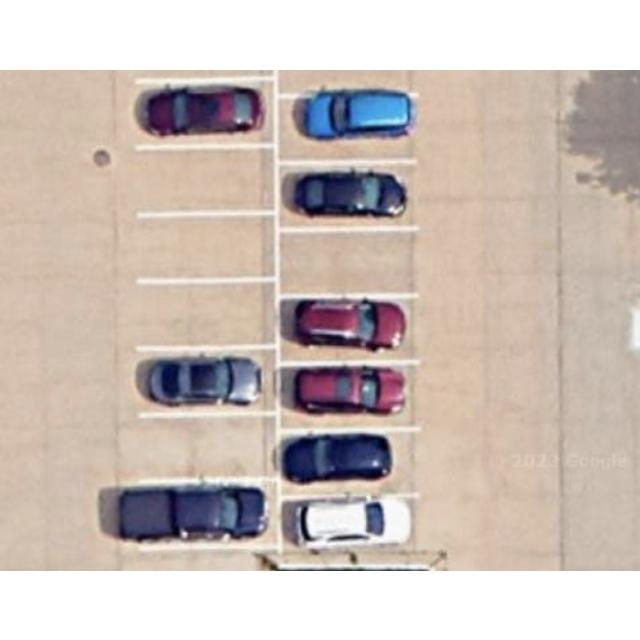Empty: (120, 418, 280, 480), (137, 148, 273, 214), (138, 279, 274, 343), (142, 214, 274, 278), (280, 229, 420, 289)
Parked: (115, 480, 278, 546), (129, 77, 273, 147), (136, 345, 278, 415), (278, 426, 418, 496), (280, 291, 420, 359), (277, 160, 415, 228), (282, 358, 418, 427), (278, 94, 417, 160), (280, 495, 416, 557)
